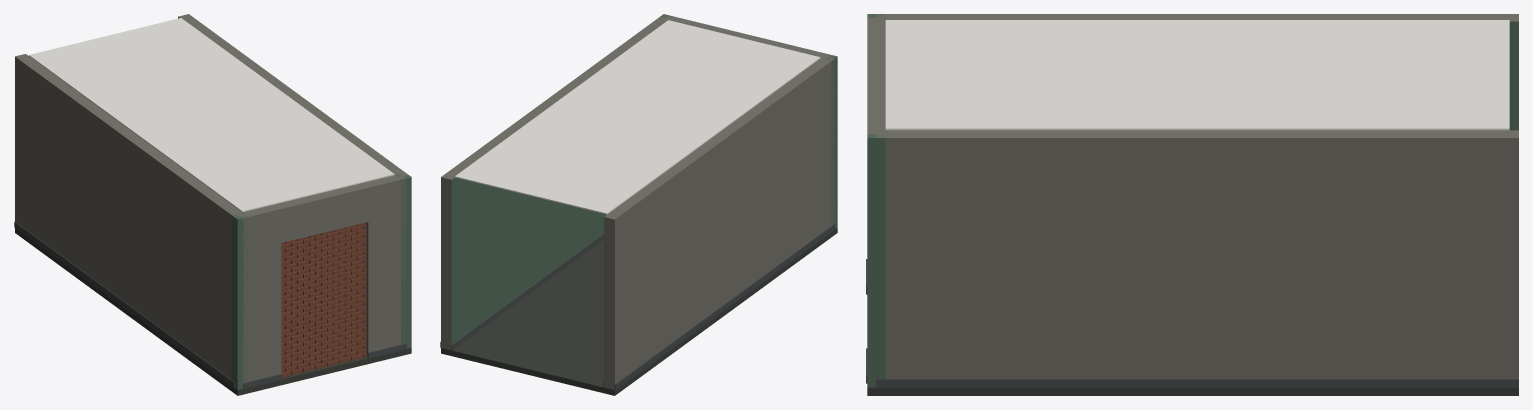
Rendered from ENV_SealedConnectingCorridor.glb.
The picture shows the model from 3 angles, left to right: view 1: azimuth 30°, elevation 25°; view 2: azimuth 150°, elevation 25°; view 3: azimuth 270°, elevation 25°; orthographic projection. The views are drawn at different scales.
Parts seen in each view (by area): view 1: ENV_SealedConnectingCorridor_Architecture, ENV_SealedConnectingCorridor_Ceiling, SC_BrickInfill, ENV_SealedConnectingCorridor_Posts; view 2: ENV_SealedConnectingCorridor_Architecture, ENV_SealedConnectingCorridor_Ceiling, ENV_SealedConnectingCorridor_Posts; view 3: ENV_SealedConnectingCorridor_Architecture, ENV_SealedConnectingCorridor_Ceiling, ENV_SealedConnectingCorridor_Posts.
Part boxes in pixels (bbox=[...]): ENV_SealedConnectingCorridor_Architecture: bbox=[14, 14, 411, 395]; ENV_SealedConnectingCorridor_Ceiling: bbox=[29, 18, 394, 212]; SC_BrickInfill: bbox=[281, 222, 366, 377]; ENV_SealedConnectingCorridor_Posts: bbox=[231, 174, 411, 389]; ENV_SealedConnectingCorridor_Architecture: bbox=[440, 15, 837, 395]; ENV_SealedConnectingCorridor_Ceiling: bbox=[455, 20, 820, 214]; ENV_SealedConnectingCorridor_Posts: bbox=[658, 14, 837, 228]; ENV_SealedConnectingCorridor_Architecture: bbox=[866, 14, 1518, 395]; ENV_SealedConnectingCorridor_Ceiling: bbox=[885, 20, 1509, 130]; ENV_SealedConnectingCorridor_Posts: bbox=[867, 14, 885, 387].
Size of what is drawn, in the model's own units: 3.22 by 3.12 by 7.11.
